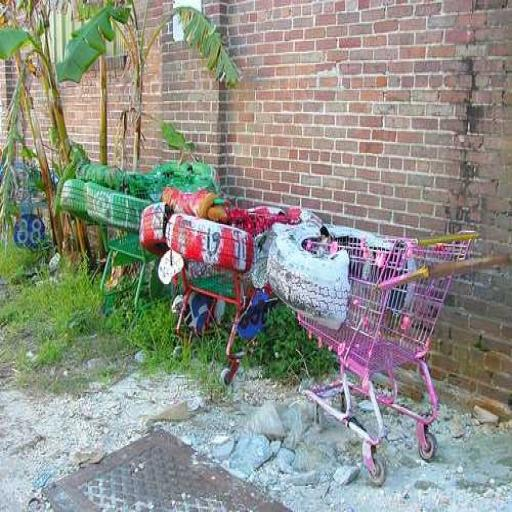shopping_cart: (294, 224, 480, 488), (164, 204, 284, 392), (96, 191, 169, 316)
